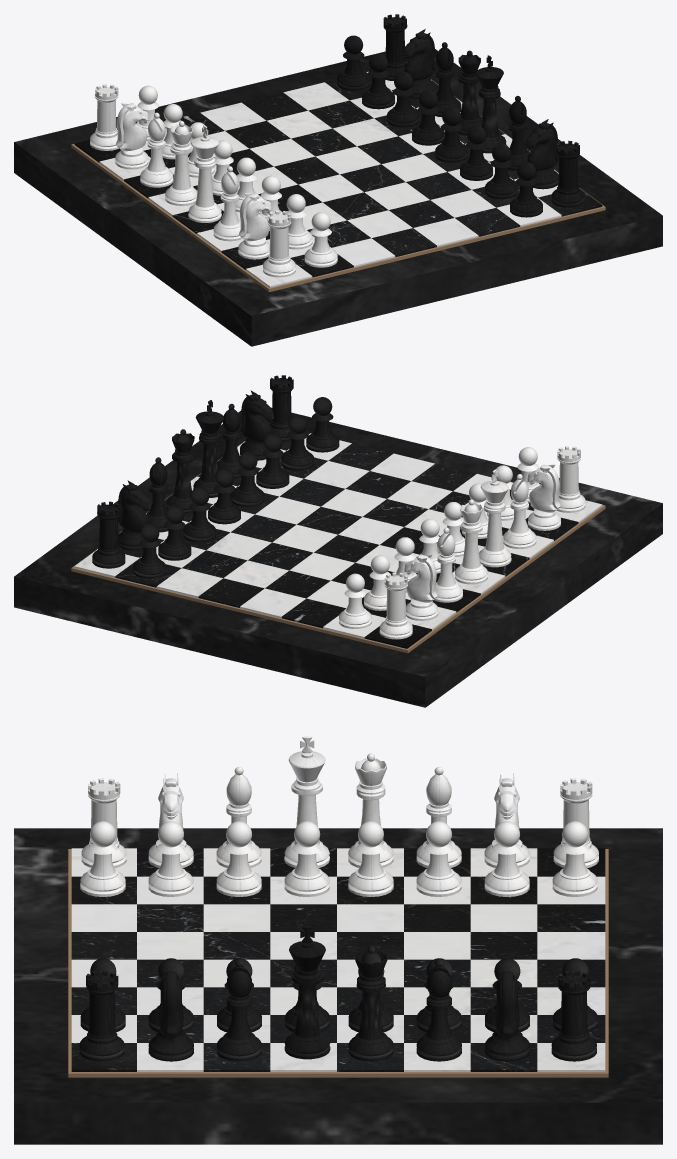
File: Chess.fbx
3 renders of one model, top to bottom at view 1: azimuth 30°, elevation 25°; view 2: azimuth 150°, elevation 25°; view 3: azimuth 270°, elevation 25°, orthographic. The views are drawn at different scales.
Parts seen in each view (by area): view 1: Chess Board, Chess Board.001, W_King, W_Knight_2, W_Knight_1, B_Knight_1, W_Queen, B_Knight_2, B_King, B_Rook_1, W_Rook_1, W_Rook_2 (+21 smaller); view 2: Chess Board, Chess Board.001, W_King, W_Knight_1, W_Knight_2, W_Queen, B_Knight_2, B_Knight_1, B_King, B_Rook_2, W_Rook_2, W_Rook_1 (+22 smaller); view 3: Chess Board, Chess Board.001, B_King, B_Queen, B_Rook_2, B_Rook_1, B_Bishop_2, B_Bishop_1, W_King, B_Knight_1, B_Knight_2, W_Pawn_8 (+22 smaller).
Part boxes in pixels (left/top/right/bottom): Chess Board: left=14, top=49, right=662, bottom=346; Chess Board.001: left=75, top=71, right=601, bottom=286; W_King: left=188, top=125, right=221, bottom=222; W_Knight_2: left=115, top=103, right=149, bottom=169; W_Knight_1: left=238, top=193, right=272, bottom=259; B_Knight_1: left=525, top=119, right=558, bottom=189; W_Queen: left=165, top=121, right=197, bottom=205; B_Knight_2: left=402, top=29, right=436, bottom=98; B_King: left=475, top=55, right=506, bottom=153; B_Rook_1: left=551, top=140, right=584, bottom=207; W_Rook_1: left=263, top=210, right=295, bottom=277; W_Rook_2: left=90, top=84, right=118, bottom=150; Chess Board: left=14, top=407, right=662, bottom=707; Chess Board.001: left=75, top=423, right=601, bottom=647; W_King: left=479, top=469, right=511, bottom=567; W_Knight_1: left=527, top=464, right=560, bottom=530; W_Knight_2: left=404, top=554, right=437, bottom=620; W_Queen: left=455, top=499, right=487, bottom=584; B_Knight_2: left=118, top=480, right=150, bottom=550; B_Knight_1: left=240, top=390, right=273, bottom=460; B_King: left=193, top=400, right=223, bottom=497; B_Rook_2: left=92, top=501, right=125, bottom=568; W_Rook_2: left=379, top=572, right=412, bottom=639; W_Rook_1: left=556, top=446, right=585, bottom=512; Chess Board: left=14, top=828, right=662, bottom=1144; Chess Board.001: left=71, top=848, right=605, bottom=1069; B_King: left=284, top=926, right=330, bottom=1059; B_Queen: left=348, top=945, right=393, bottom=1061; B_Rook_2: left=551, top=970, right=596, bottom=1061; B_Rook_1: left=79, top=970, right=124, bottom=1061; B_Bishop_2: left=416, top=959, right=461, bottom=1061; B_Bishop_1: left=217, top=959, right=261, bottom=1061; W_King: left=284, top=736, right=329, bottom=867; B_Knight_1: left=148, top=971, right=193, bottom=1061; B_Knight_2: left=485, top=971, right=529, bottom=1061; W_Pawn_8: left=552, top=821, right=597, bottom=896.
Bounding box in the file's own units: 17.78 × 5.28 × 17.78.
